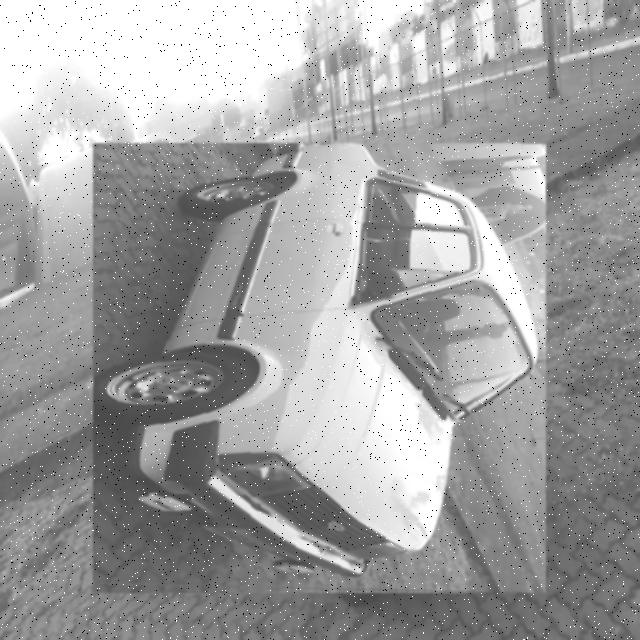car: (95, 144, 545, 595)
